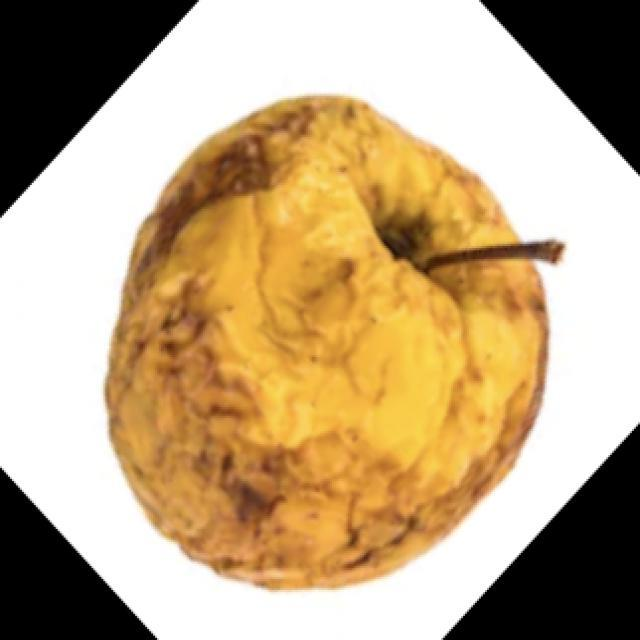Rotten: (125, 97, 547, 615)
